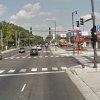Crosswalk: (2, 58, 90, 82)
